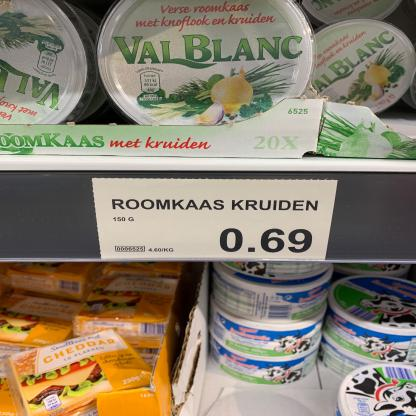prtg: (92, 179, 341, 261)
